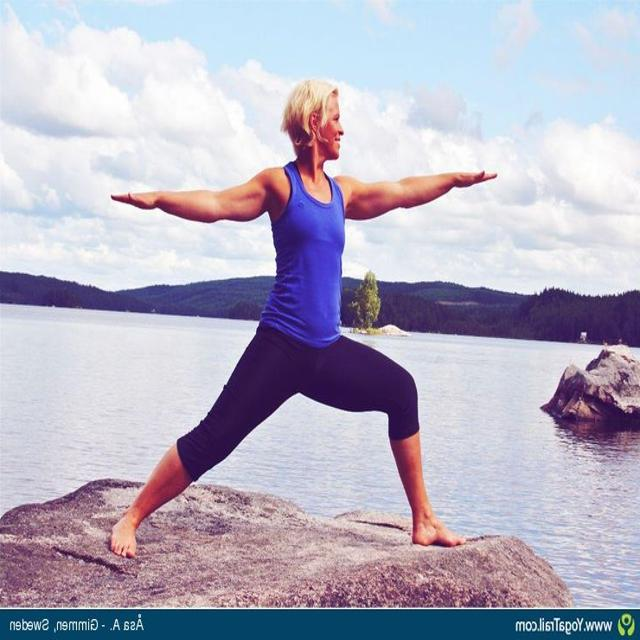Warrior_II: (100, 75, 501, 558)
